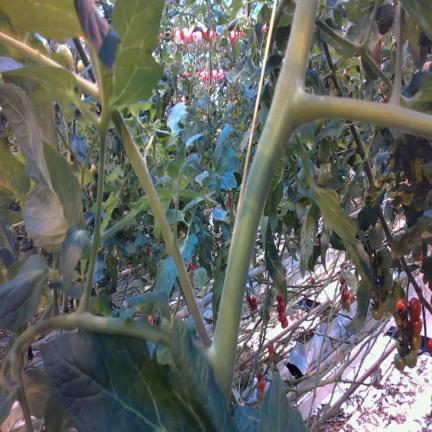6kp_peduncle: (405, 267, 417, 301)
6kp_petiole: (254, 24, 389, 181)
MainStem: (209, 0, 318, 411), (400, 256, 432, 316), (322, 42, 344, 97), (378, 206, 393, 245), (350, 125, 365, 160)
tomato: (57, 45, 73, 70), (369, 224, 383, 249), (378, 246, 391, 271), (409, 297, 421, 321), (380, 292, 392, 312), (405, 350, 417, 368), (396, 339, 408, 356), (394, 353, 405, 370), (411, 334, 422, 350), (412, 318, 422, 334), (371, 307, 383, 319), (396, 298, 406, 310), (77, 60, 85, 73), (427, 338, 432, 355), (256, 389, 263, 401), (258, 378, 265, 390), (281, 317, 288, 328), (270, 287, 276, 297), (266, 304, 271, 314), (279, 313, 284, 322), (269, 297, 274, 306), (288, 240, 293, 248)
